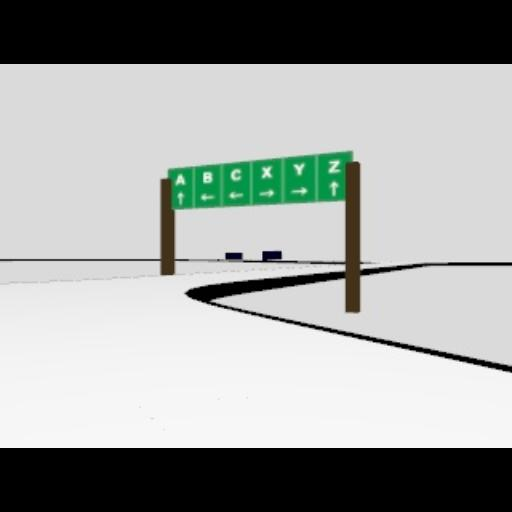A: (175, 172, 185, 186)
B: (203, 172, 213, 184)
C: (228, 168, 242, 180)
Left: (227, 190, 243, 198), (200, 192, 214, 200)
Right: (289, 185, 307, 195), (257, 189, 275, 197)
Straight: (329, 180, 339, 198), (176, 191, 184, 205)
X: (260, 164, 272, 178)
Y: (292, 162, 304, 174)
Z: (327, 159, 341, 173)
